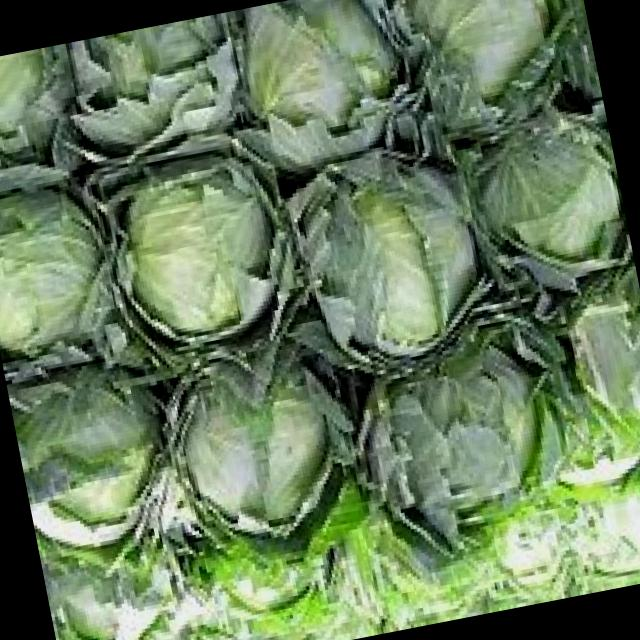cabbage: (306, 179, 479, 364), (112, 162, 285, 341), (175, 374, 334, 533), (15, 383, 172, 537), (236, 0, 402, 145), (480, 120, 629, 272), (0, 174, 114, 351), (398, 0, 566, 112)
